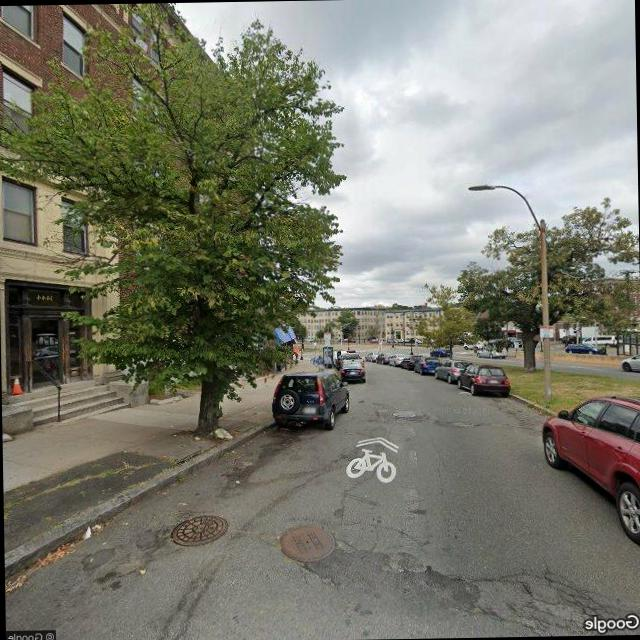crack: (458, 554, 622, 636)
